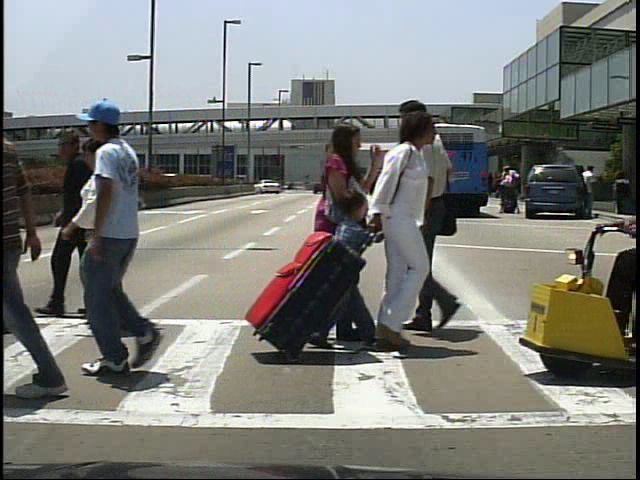person: (374, 98, 497, 350), (76, 105, 185, 388), (348, 118, 450, 369), (309, 121, 378, 357), (72, 138, 137, 331), (49, 128, 107, 322), (321, 181, 369, 319), (582, 164, 602, 218), (498, 166, 516, 219), (503, 165, 522, 215)
